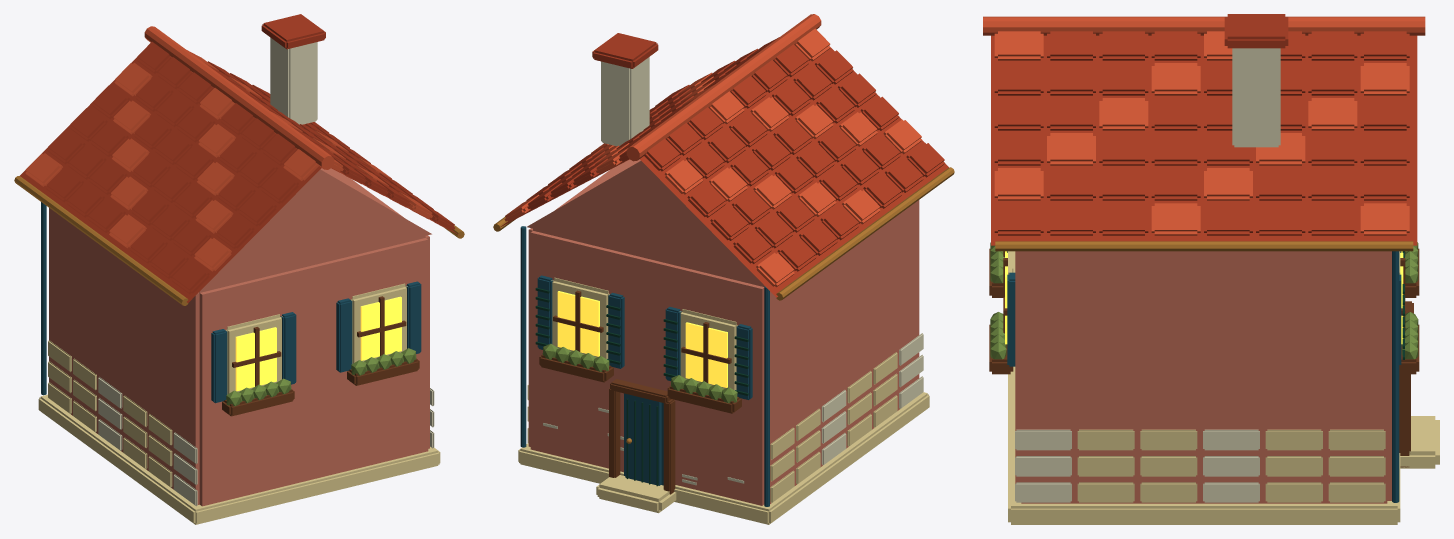
Rendered from house_3.glb.
3 renders of one model, left to right at view 1: azimuth 30°, elevation 25°; view 2: azimuth 150°, elevation 25°; view 3: azimuth 270°, elevation 25°, orthographic. The views are drawn at different scales.
Parts seen in each view (by area): view 1: House.003Mesh; view 2: House.003Mesh; view 3: House.003Mesh.
Part boxes in pixels (x1=…): House.003Mesh: x1=14, y1=14, x2=464, y2=524; House.003Mesh: x1=493, y1=14, x2=954, y2=524; House.003Mesh: x1=983, y1=14, x2=1439, y2=524.
Size of the model in its own units: 5.07 by 6.47 by 5.68.
